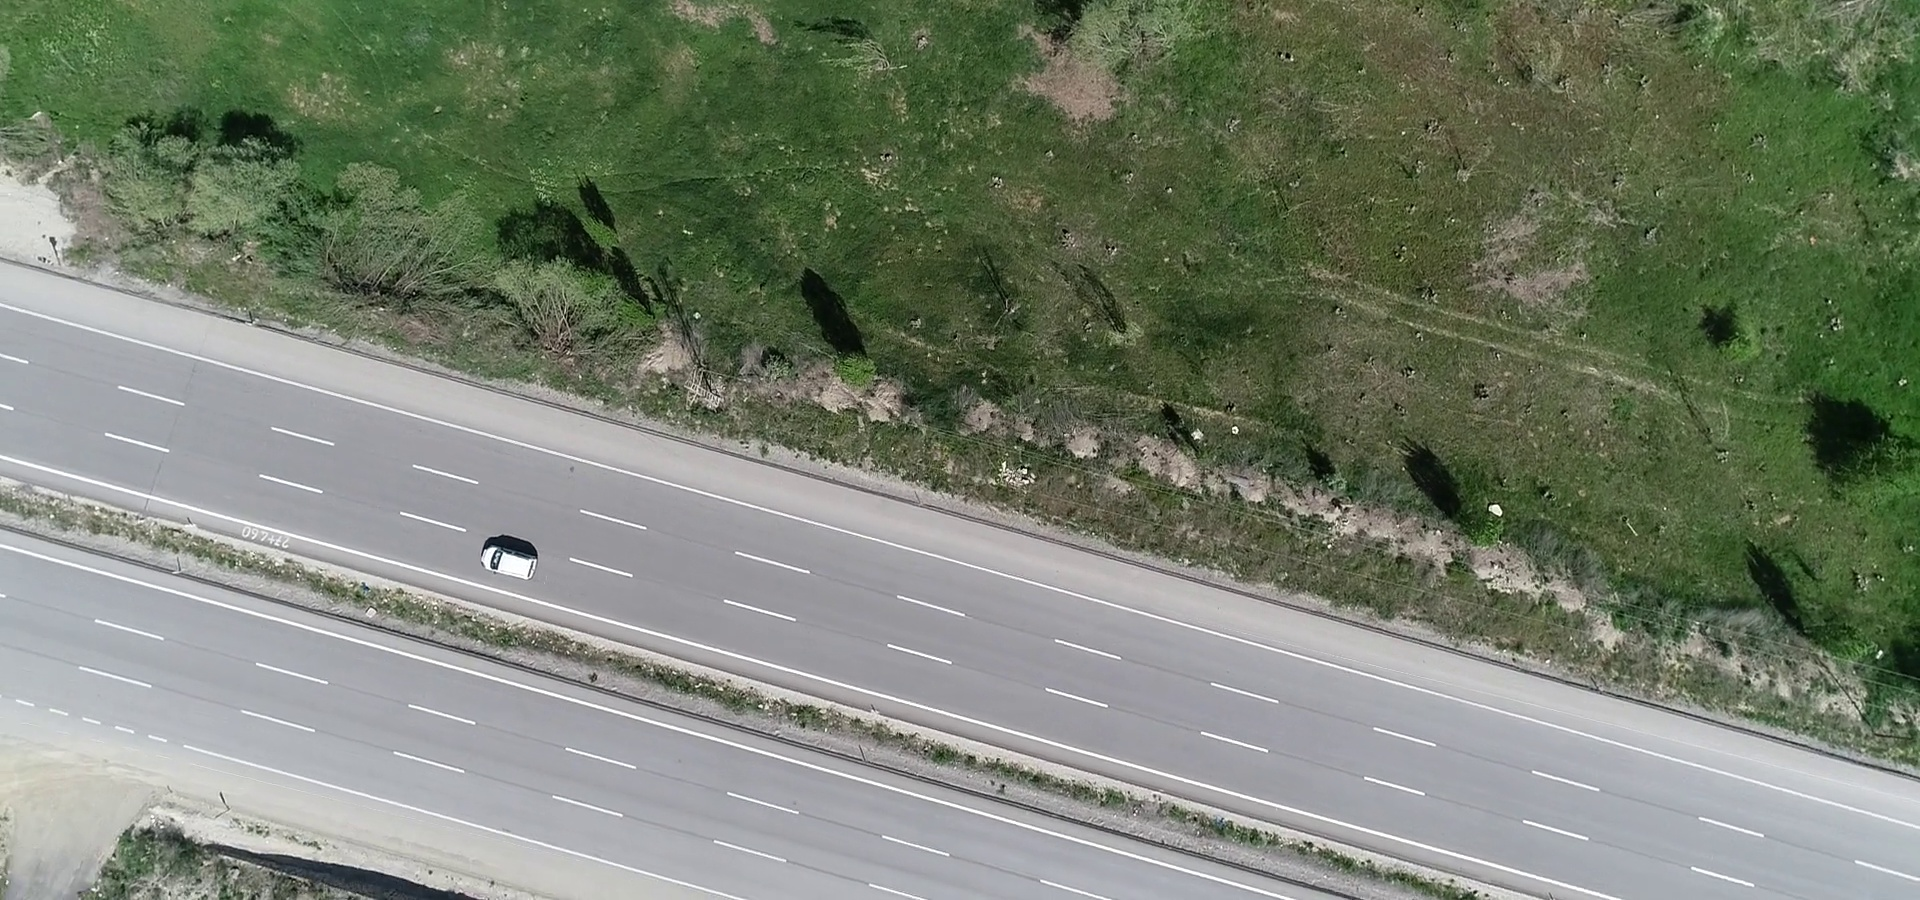arac: (476, 529, 544, 583)
